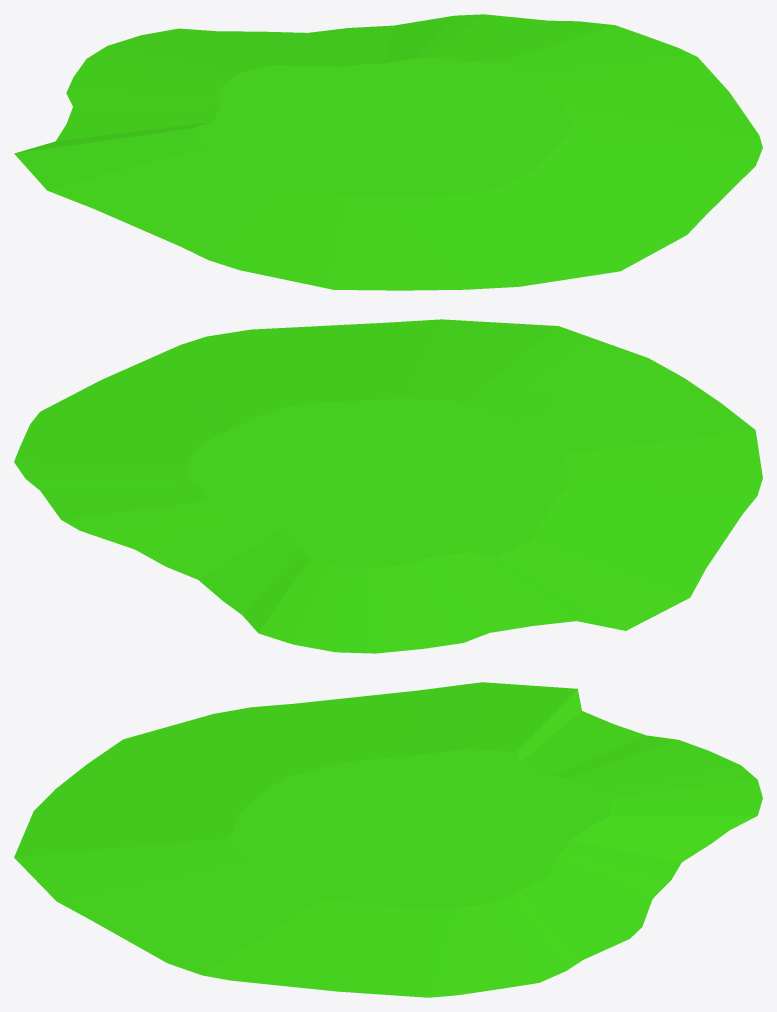
Rendered from middleflat.fbx.
The picture shows the model from 3 angles, top to bottom: view 1: azimuth 30°, elevation 25°; view 2: azimuth 150°, elevation 25°; view 3: azimuth 270°, elevation 25°; orthographic projection. The views are drawn at different scales.
Parts seen in each view (by area): view 1: IslandTopMiddle; view 2: IslandTopMiddle; view 3: IslandTopMiddle.
Part boxes in pixels (box(x1,y1,x2,y2)): IslandTopMiddle: box(14, 14, 762, 290); IslandTopMiddle: box(14, 319, 762, 653); IslandTopMiddle: box(14, 682, 762, 997).
Bounding box in the file's own units: 233155 × 3797 × 233873.
